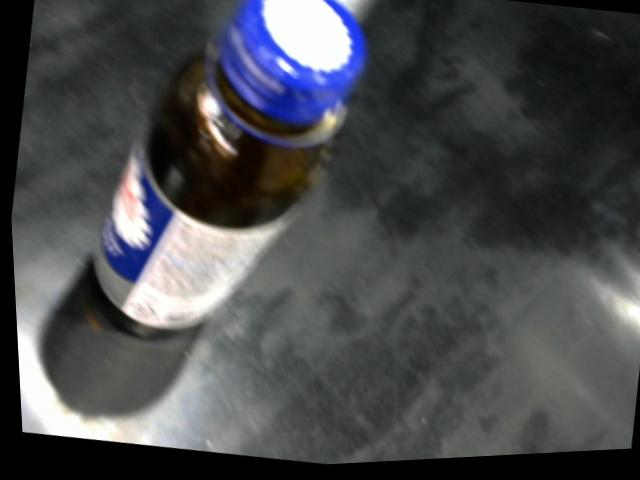glass: (70, 0, 381, 350)
